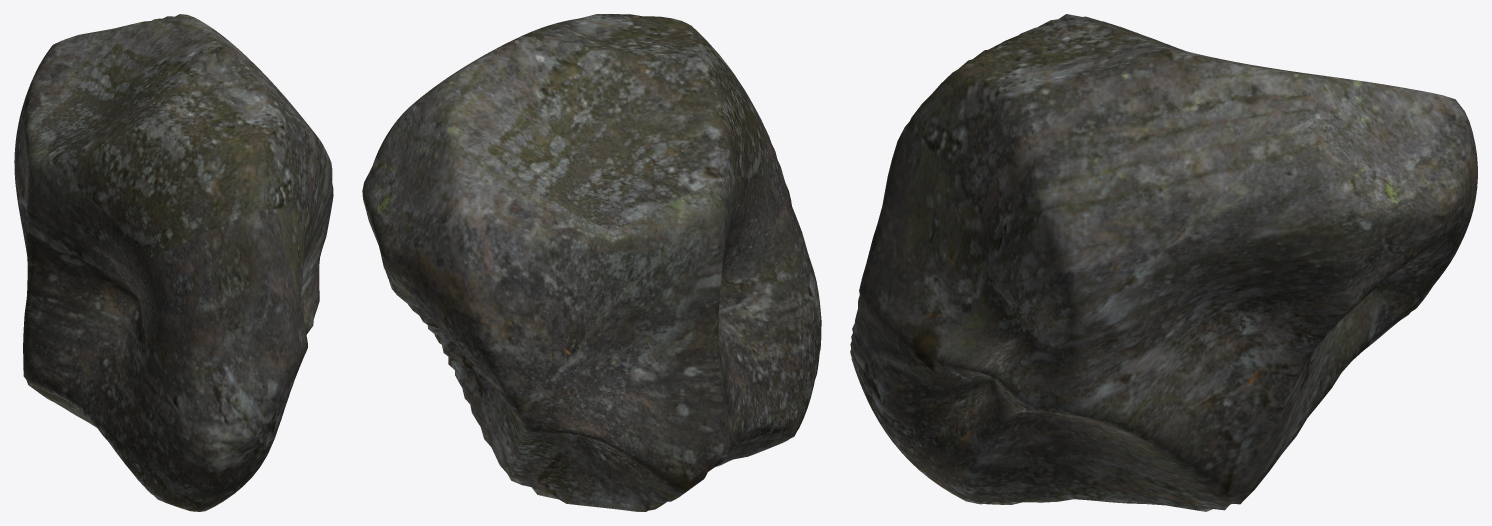
File: RockMaker2.fbx
The picture shows the model from 3 angles, left to right: view 1: azimuth 30°, elevation 25°; view 2: azimuth 150°, elevation 25°; view 3: azimuth 270°, elevation 25°; orthographic projection. The views are drawn at different scales.
Visible parts, largest first — view 1: Cube; view 2: Cube; view 3: Cube.
Part boxes in pixels (x1,y1,x2,y2): Cube: [14, 14, 333, 511]; Cube: [362, 14, 821, 511]; Cube: [850, 14, 1477, 511].
Bounding box in the file's own units: 150 × 211 × 241.
1 material, 1 textured.
